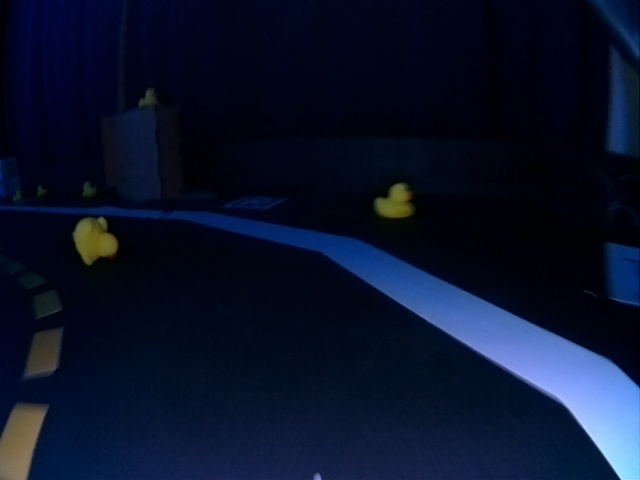Duckie: (74, 218, 114, 265), (375, 184, 414, 218), (139, 88, 159, 106), (81, 181, 98, 198), (36, 185, 47, 196), (13, 190, 22, 200)
QR code: (225, 195, 283, 211)
